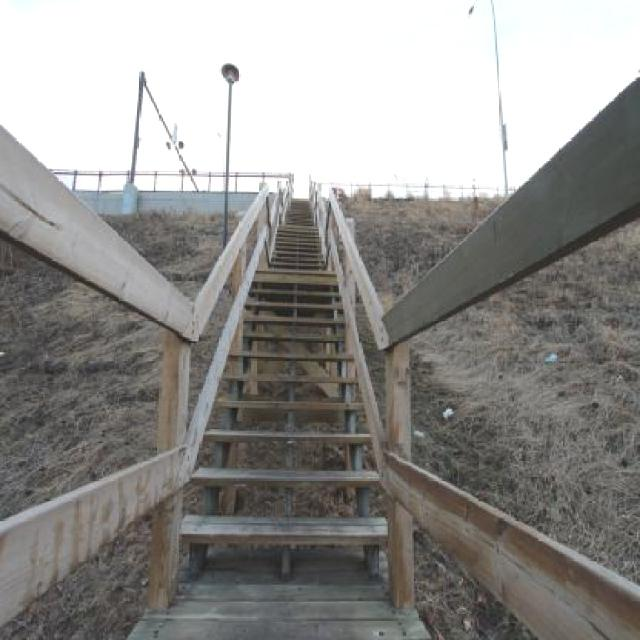stair: (178, 179, 390, 583)
